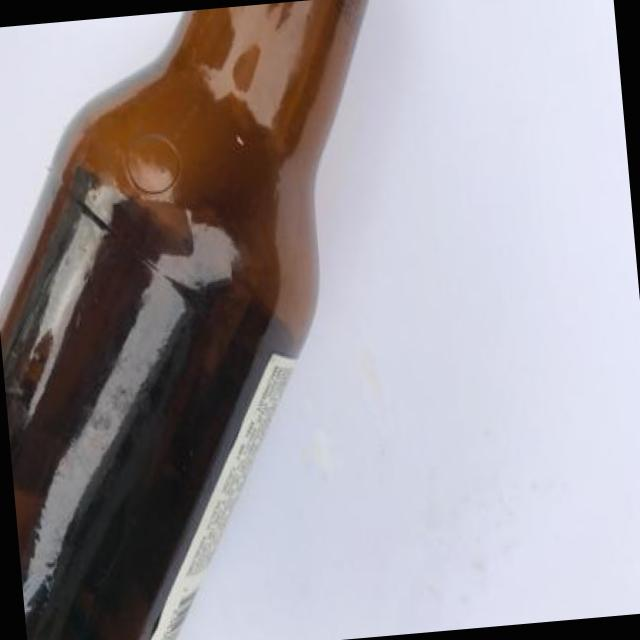chai_thuy_tinh: (0, 0, 367, 640)
